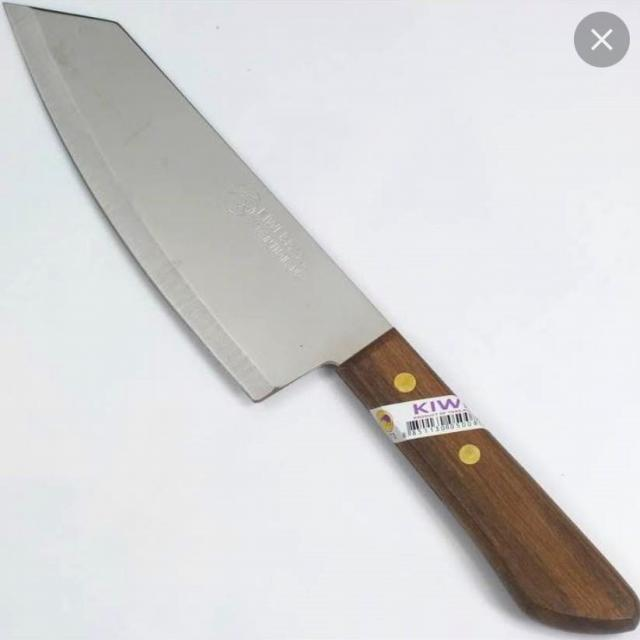Knife: (6, 0, 575, 626)
